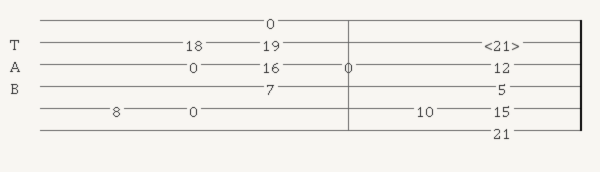0: (189, 57, 202, 71), (189, 101, 202, 115), (266, 13, 279, 27), (344, 57, 357, 71)
10: (416, 101, 438, 115)
12: (493, 57, 515, 71)
15: (493, 101, 515, 116)
16: (262, 57, 284, 71)
18: (185, 35, 207, 49)
19: (262, 35, 284, 49)
21: (493, 123, 515, 137)
5: (498, 79, 511, 94)
7: (266, 79, 279, 93)
8: (112, 101, 125, 115)
harmonic: (484, 35, 524, 49)
